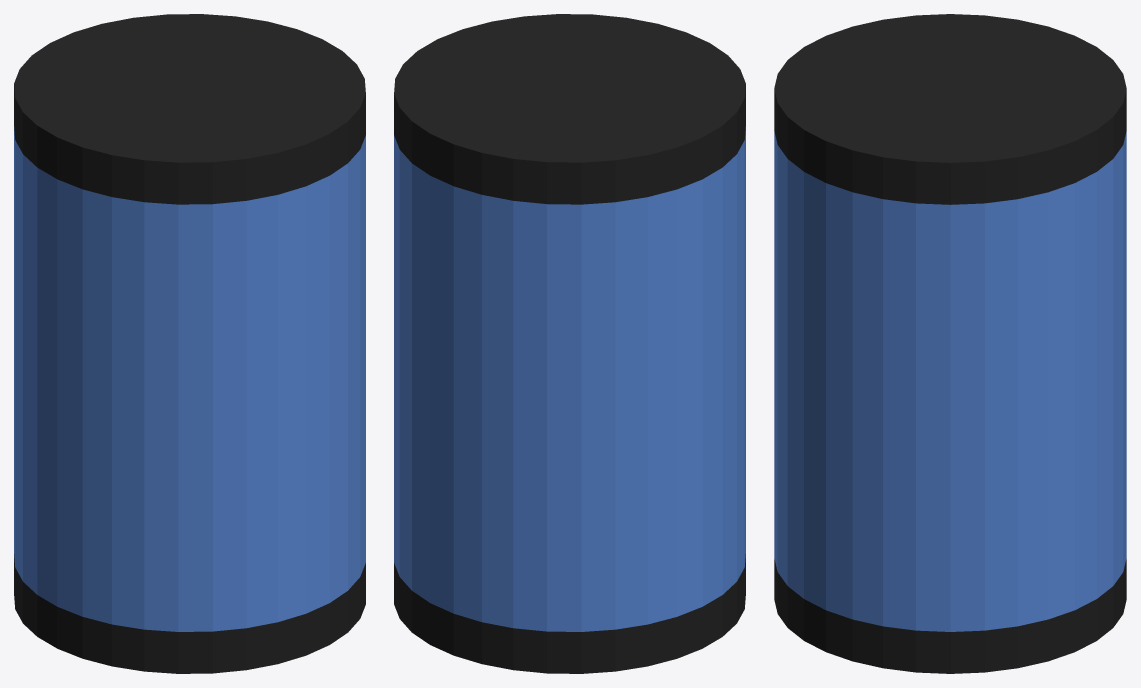
File: Portal In.fbx
3 views of the same model, side by side, from view 1: azimuth 30°, elevation 25°; view 2: azimuth 150°, elevation 25°; view 3: azimuth 270°, elevation 25° (orthographic).
Visible parts, largest first — view 1: Cylinder; view 2: Cylinder; view 3: Cylinder.
Part boxes in pixels (x1=…): Cylinder: x1=14, y1=14, x2=365, y2=673; Cylinder: x1=394, y1=14, x2=745, y2=673; Cylinder: x1=774, y1=14, x2=1126, y2=673.
Bounding box in the file's own units: 100 × 160 × 100.
